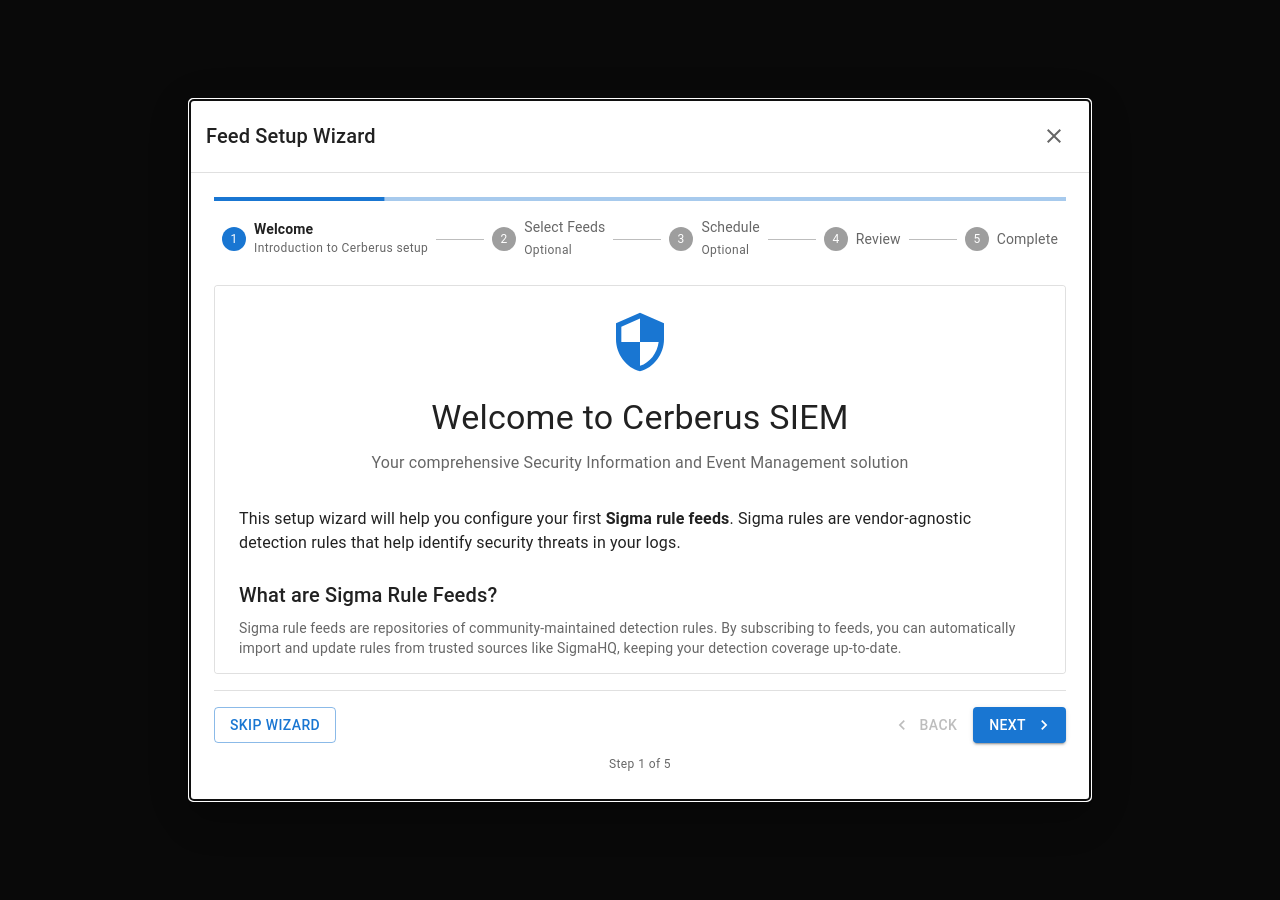
Test: FeedSetupWizard › Template Selection Step (Step 2) › should handle template loading error
Expected: the heading "Welcome to Cerberus SIEM" is shown, left=431, top=397, right=849, bottom=437
Note: Navigate to Step 2
Click the button "Next" at (1020, 725), box left=973, top=706, right=1066, bottom=743
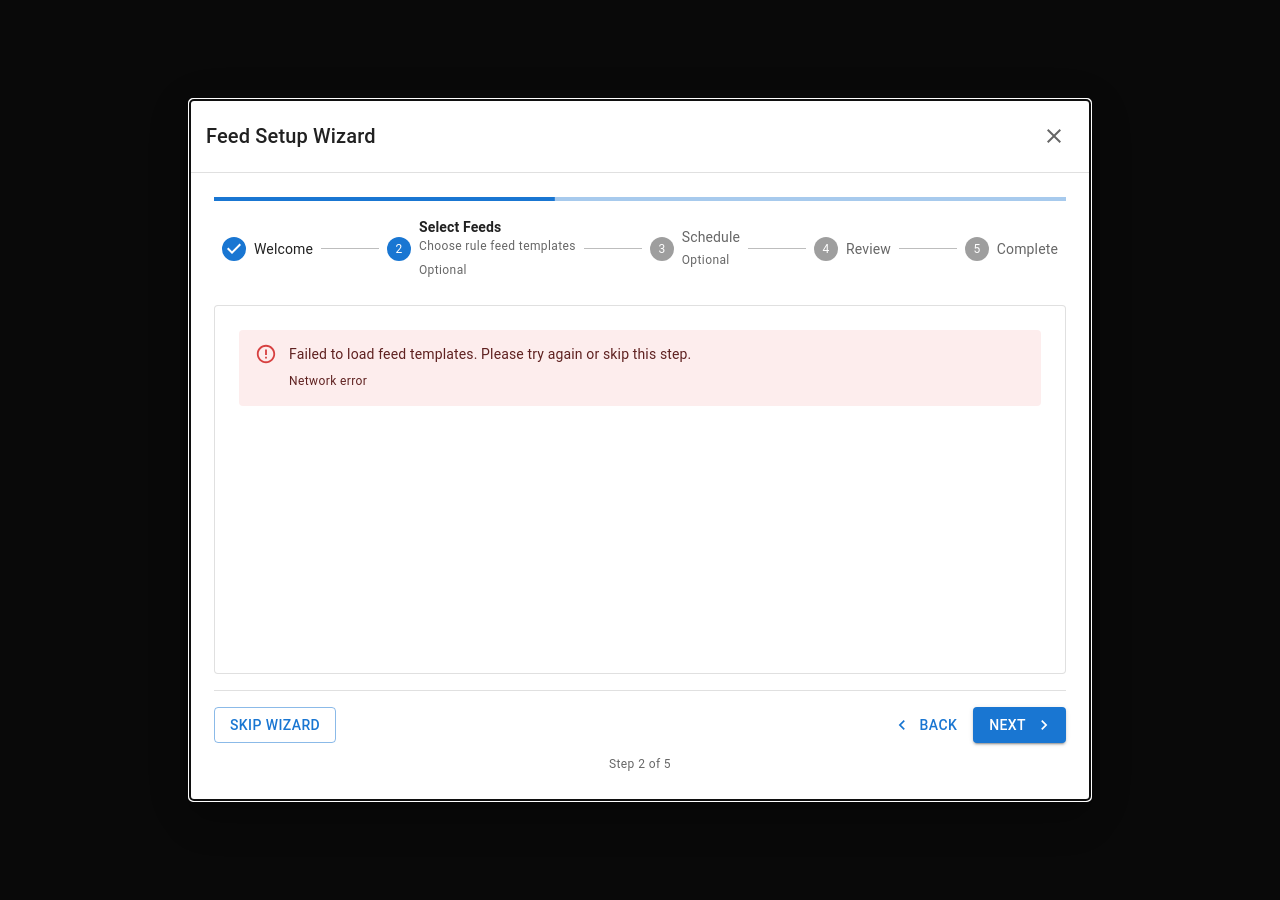
Expected: the text "Failed to load feed templates" is shown, left=289, top=346, right=692, bottom=362
